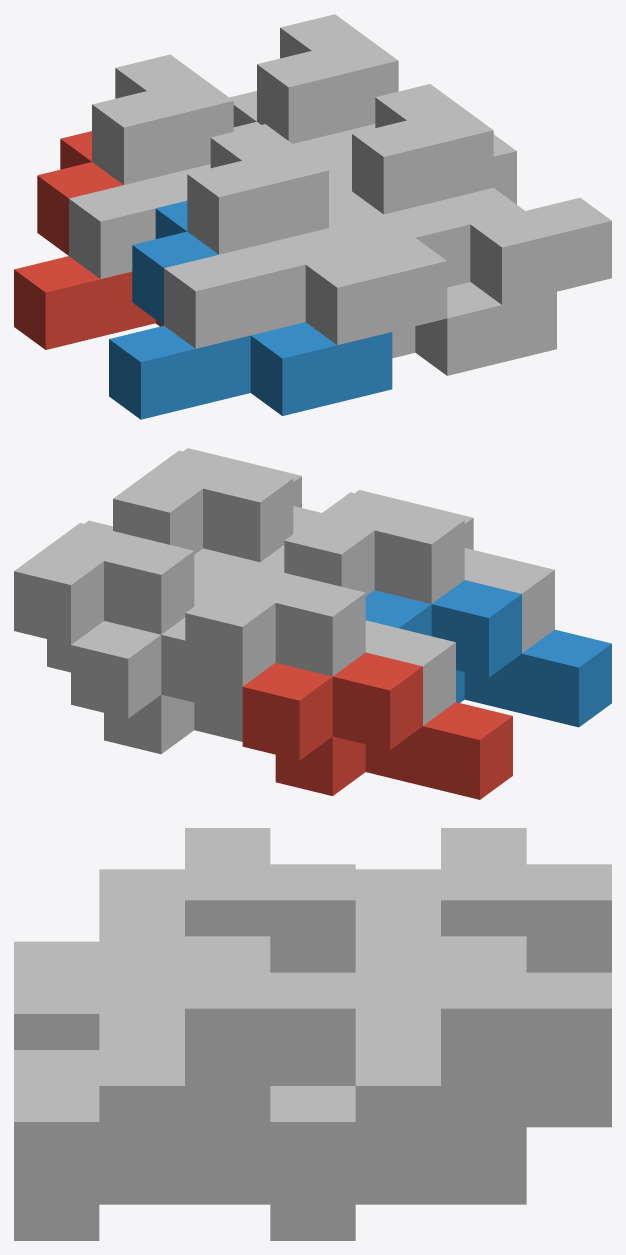
Rendered from tiling.obj.
3 renders of one model, top to bottom at view 1: azimuth 30°, elevation 25°; view 2: azimuth 150°, elevation 25°; view 3: azimuth 270°, elevation 25°, orthographic. The views are drawn at different scales.
Parts seen in each view (by area): view 1: copy_1_domain_4, copy_1_domain_8, copy_1_domain_2, copy_1_domain_3, copy_1_domain_7, copy_1_domain_1, copy_1_domain_6, copy_1_domain_5; view 2: copy_1_domain_1, copy_1_domain_3, copy_1_domain_4, copy_1_domain_2, copy_1_domain_7, copy_1_domain_8, copy_1_domain_5, copy_1_domain_6; view 3: copy_1_domain_8, copy_1_domain_7, copy_1_domain_4, copy_1_domain_3, copy_1_domain_5, copy_1_domain_6.
Part boxes in pixels (box(x1,y1,x2,y2)): copy_1_domain_4: box(164, 124, 447, 348); copy_1_domain_8: box(329, 84, 611, 304); copy_1_domain_2: box(109, 200, 392, 419); copy_1_domain_3: box(69, 54, 351, 278); copy_1_domain_7: box(257, 14, 516, 204); copy_1_domain_1: box(14, 131, 163, 349); copy_1_domain_6: box(324, 160, 556, 375); copy_1_domain_5: box(229, 91, 260, 131); copy_1_domain_1: box(242, 652, 512, 799); copy_1_domain_3: box(185, 562, 455, 725); copy_1_domain_4: box(284, 490, 554, 653); copy_1_domain_2: box(365, 580, 611, 727); copy_1_domain_7: box(14, 520, 222, 672); copy_1_domain_8: box(113, 448, 321, 561); copy_1_domain_5: box(71, 617, 242, 754); copy_1_domain_6: box(194, 545, 284, 585); copy_1_domain_8: box(14, 936, 355, 1199); copy_1_domain_7: box(270, 936, 611, 1199); copy_1_domain_4: box(14, 828, 355, 1049); copy_1_domain_3: box(355, 828, 611, 977); copy_1_domain_5: box(270, 1086, 611, 1240); copy_1_domain_6: box(14, 1163, 270, 1240).
Size of the model in its own units: 8 by 3 by 7.
